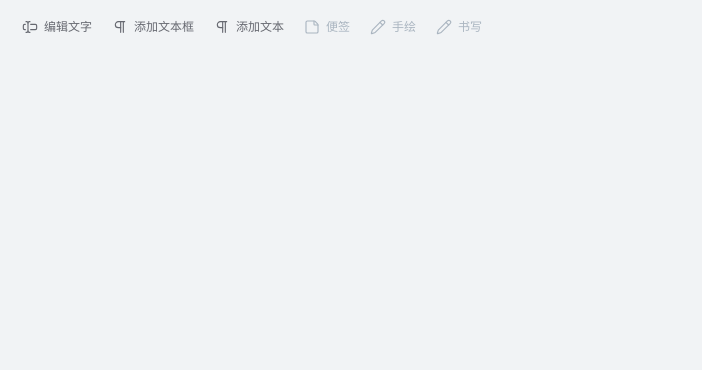
PageTextLayer text editing › reports a font fallback after committing
The image size is (702, 370).
expect the element named "文本层" is shown: met, box [12,12,492,42]
Click the button "编辑文字" at (57,27), box [12,12,102,42]
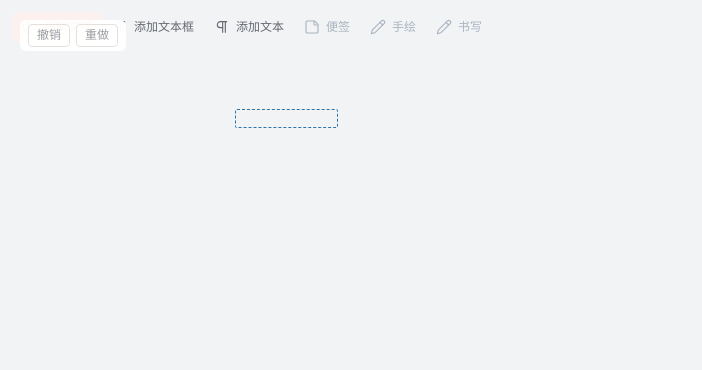
Press the mouse on the element named "文本层" at (73,35), box [12,12,492,128]
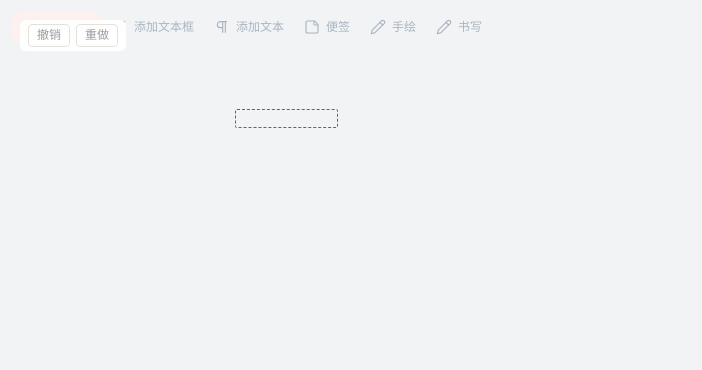
Double-click the element named "文本层" at (73,35), box [12,12,492,128]
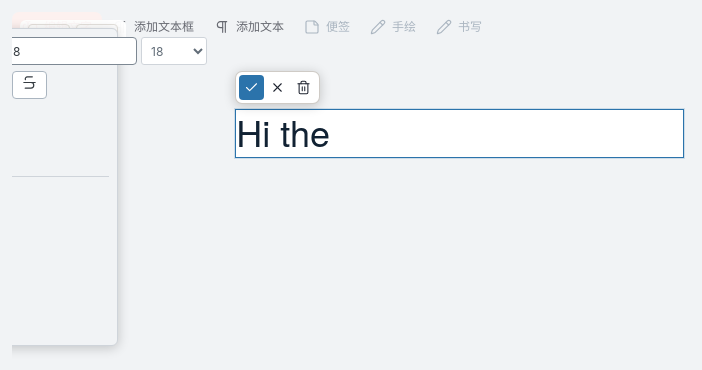
Replace the text in the text box named "文字内容" with "Edited text" at (460,134), box [236,110,683,157]
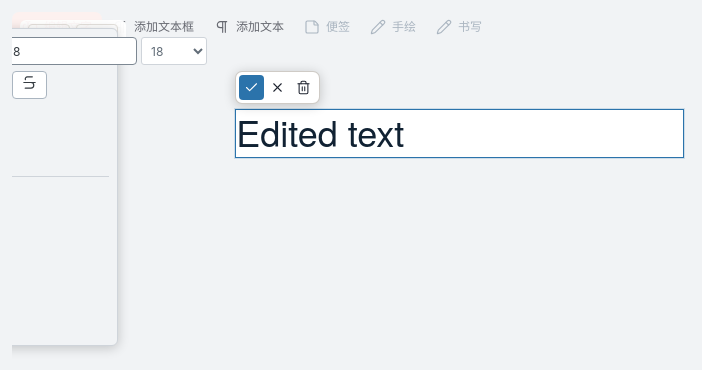
Click the button named "应用" at (252,88), box [239,75,264,100]
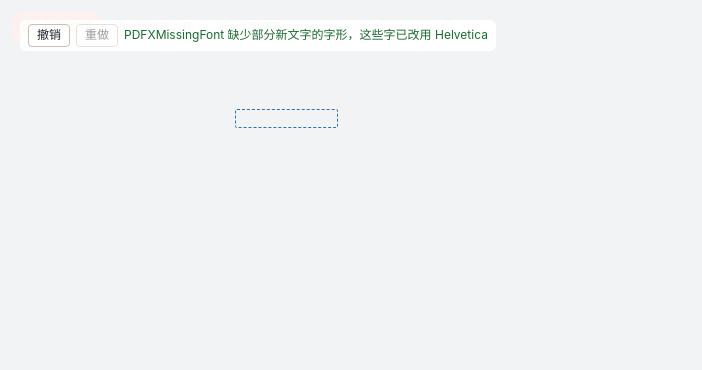
expect the text "PDFXMissingFont 缺少部分新文字的字形，这些字已改用 Helvetica" is shown: met, box [124,27,488,44]
